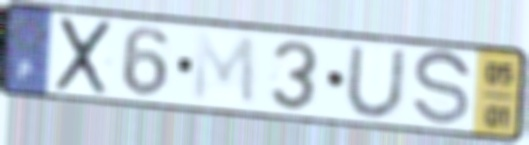3: (266, 38, 322, 113)
6: (119, 24, 173, 100)
M: (190, 29, 259, 109)
S: (409, 48, 475, 131)
U: (342, 45, 410, 122)
X: (51, 14, 116, 98)
